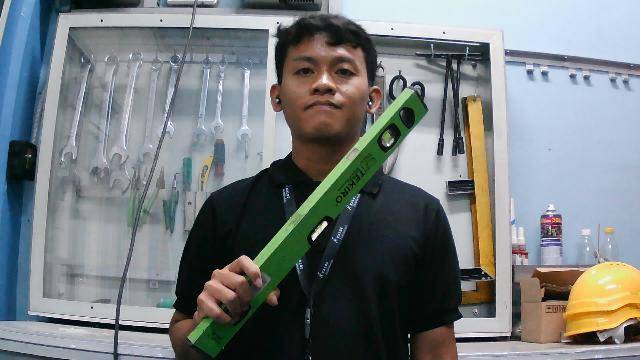water_pass: (185, 83, 431, 359)
